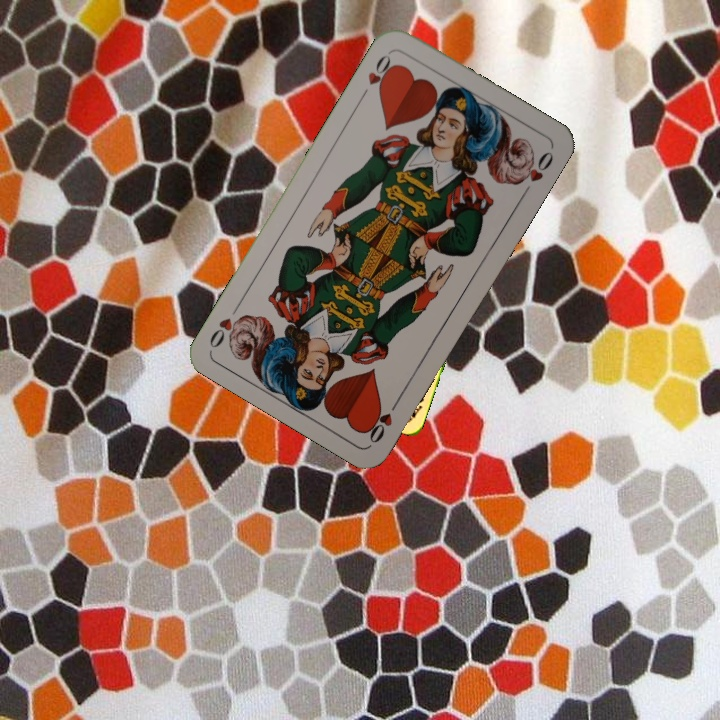HO: (356, 48, 399, 102), (363, 393, 403, 446)
